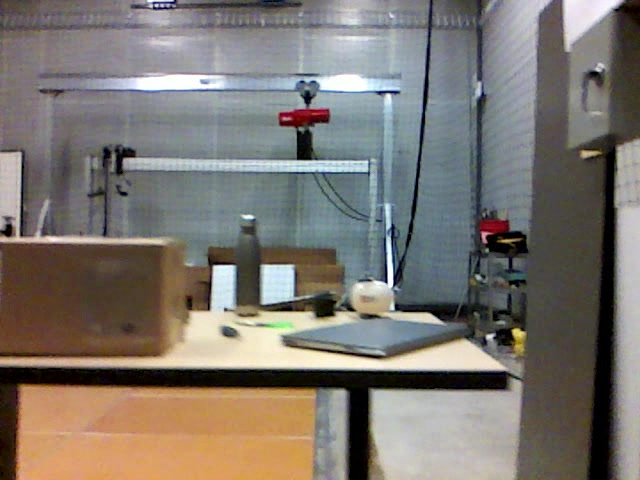box: (1, 237, 182, 358)
